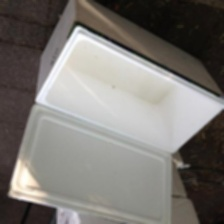foam_box: (6, 0, 223, 224)
